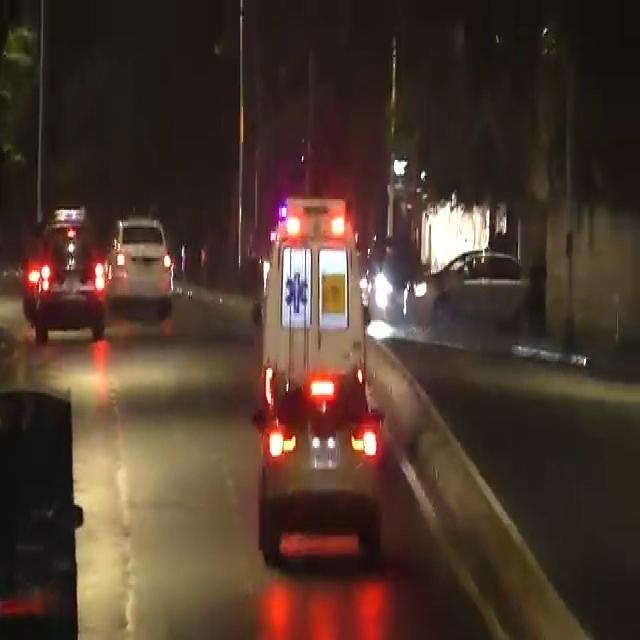ambulance: (261, 194, 380, 411)
